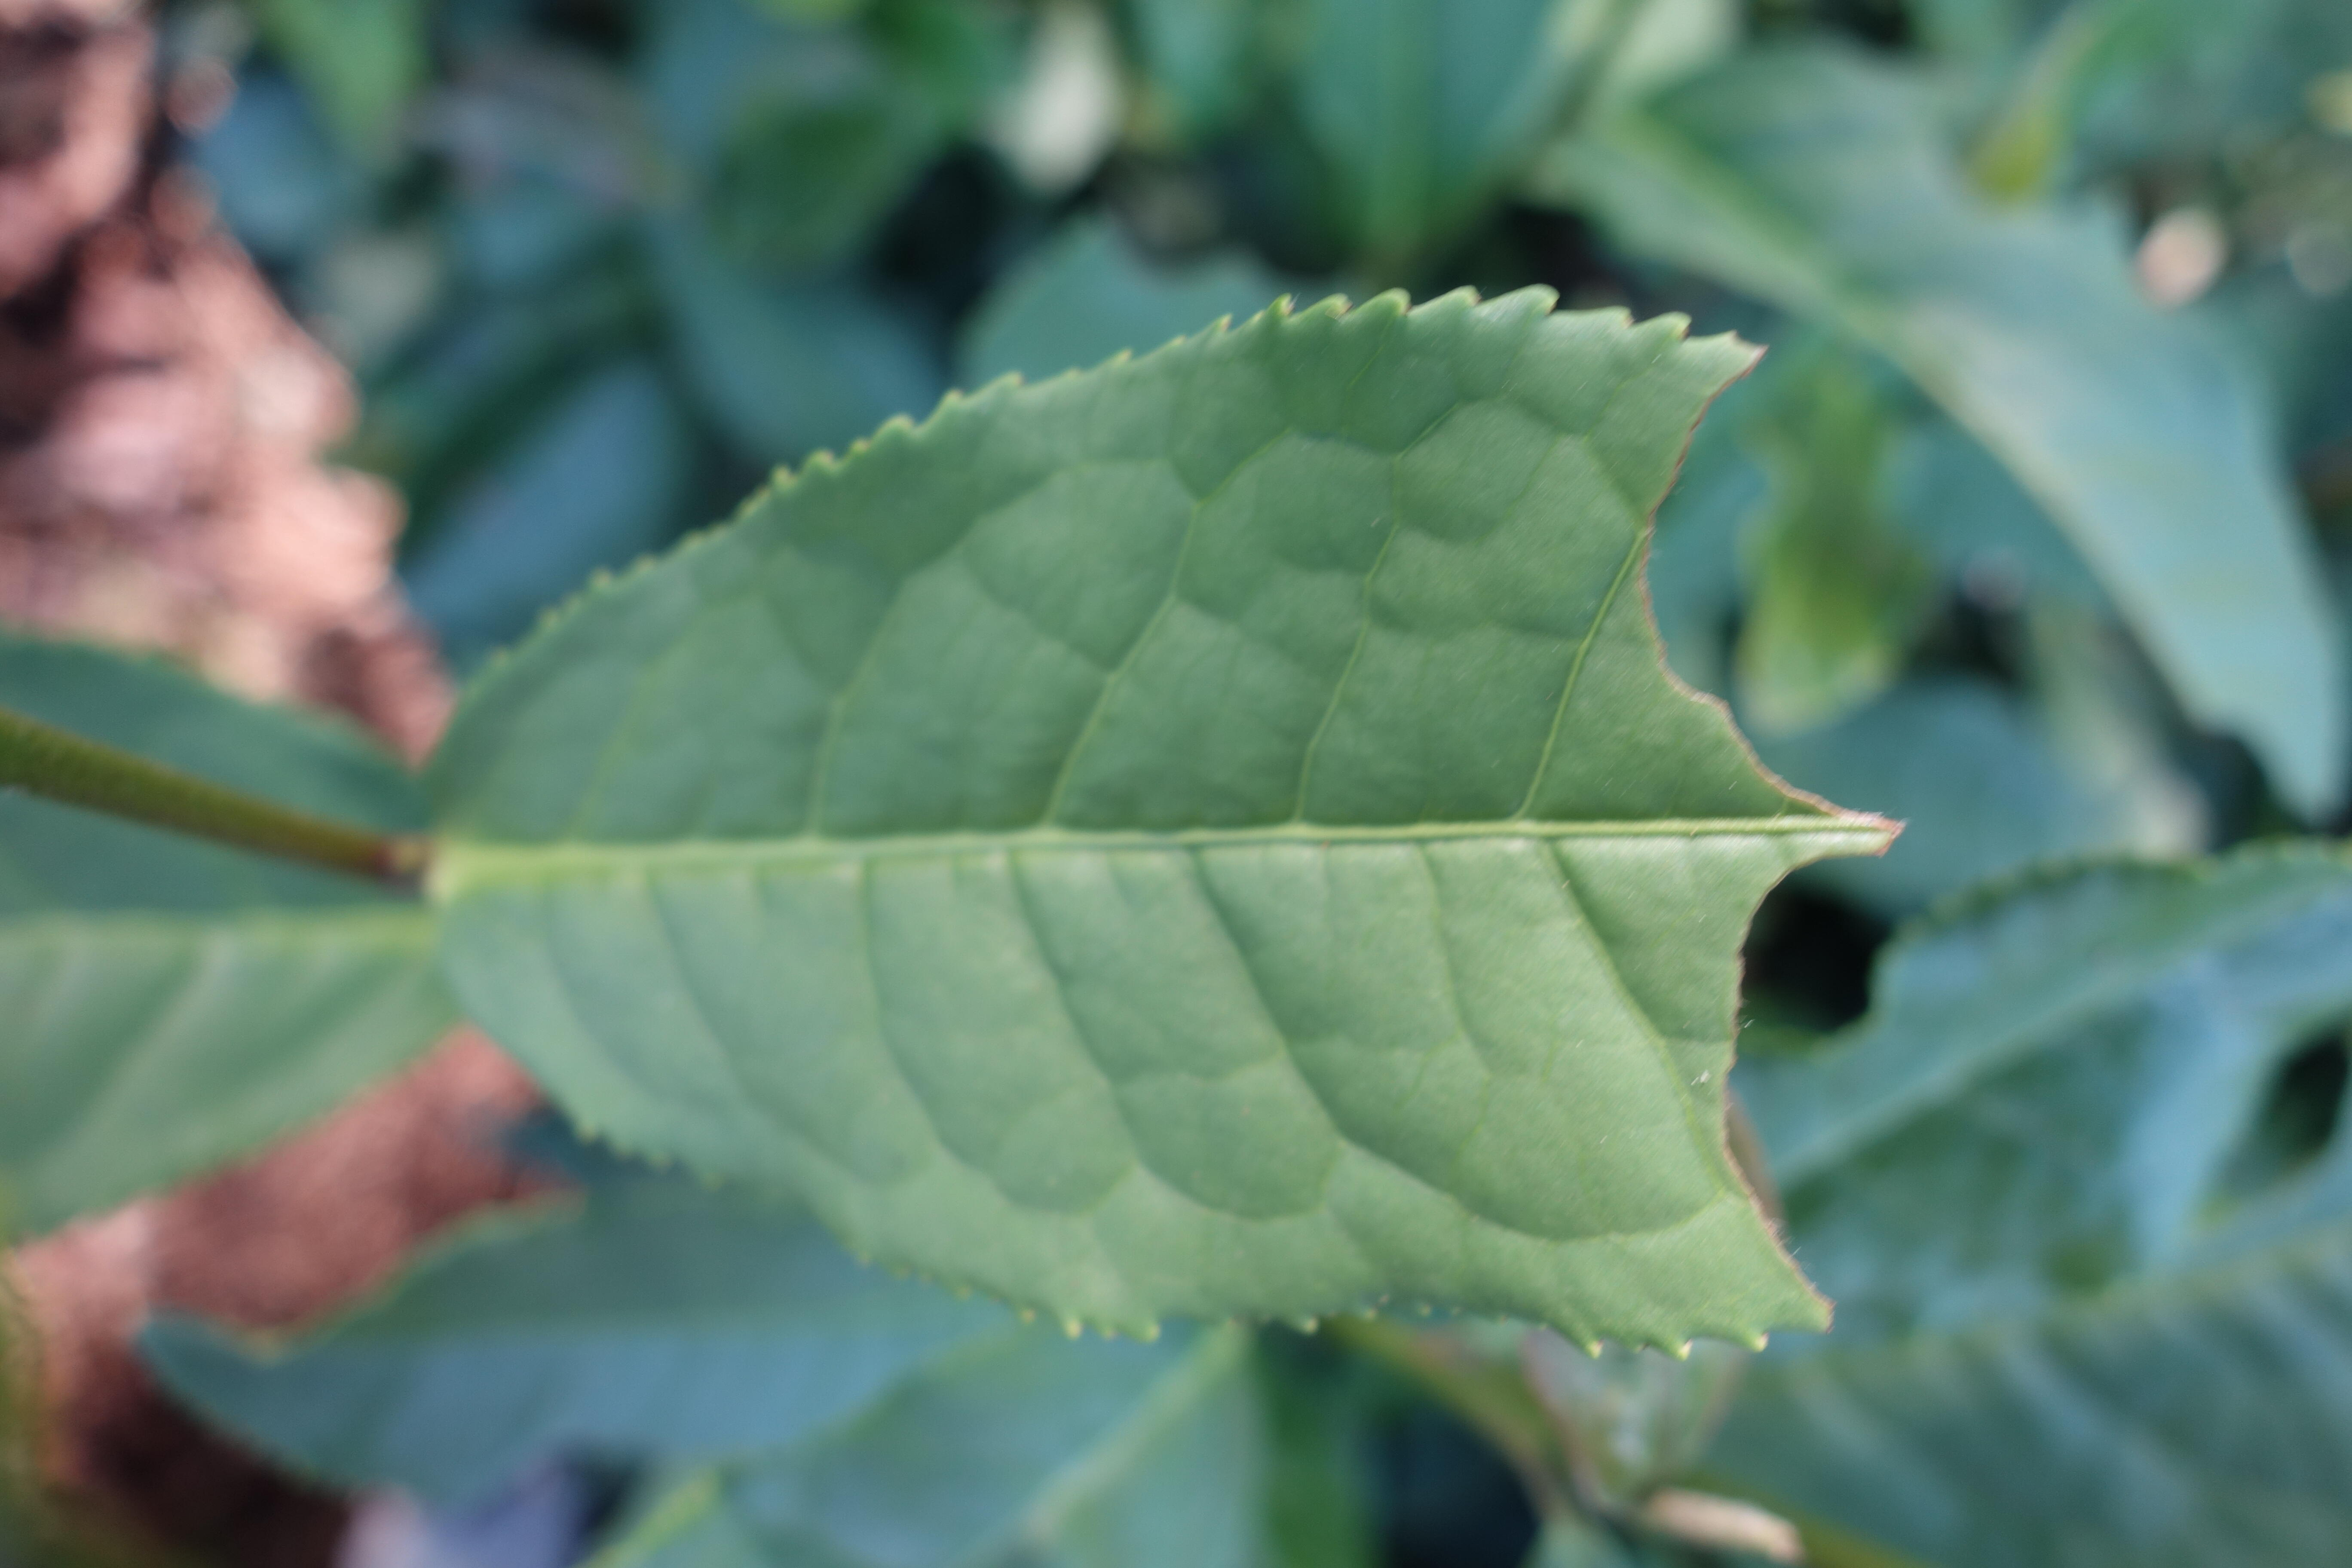chihuo_high: (427, 276, 1913, 1361)
